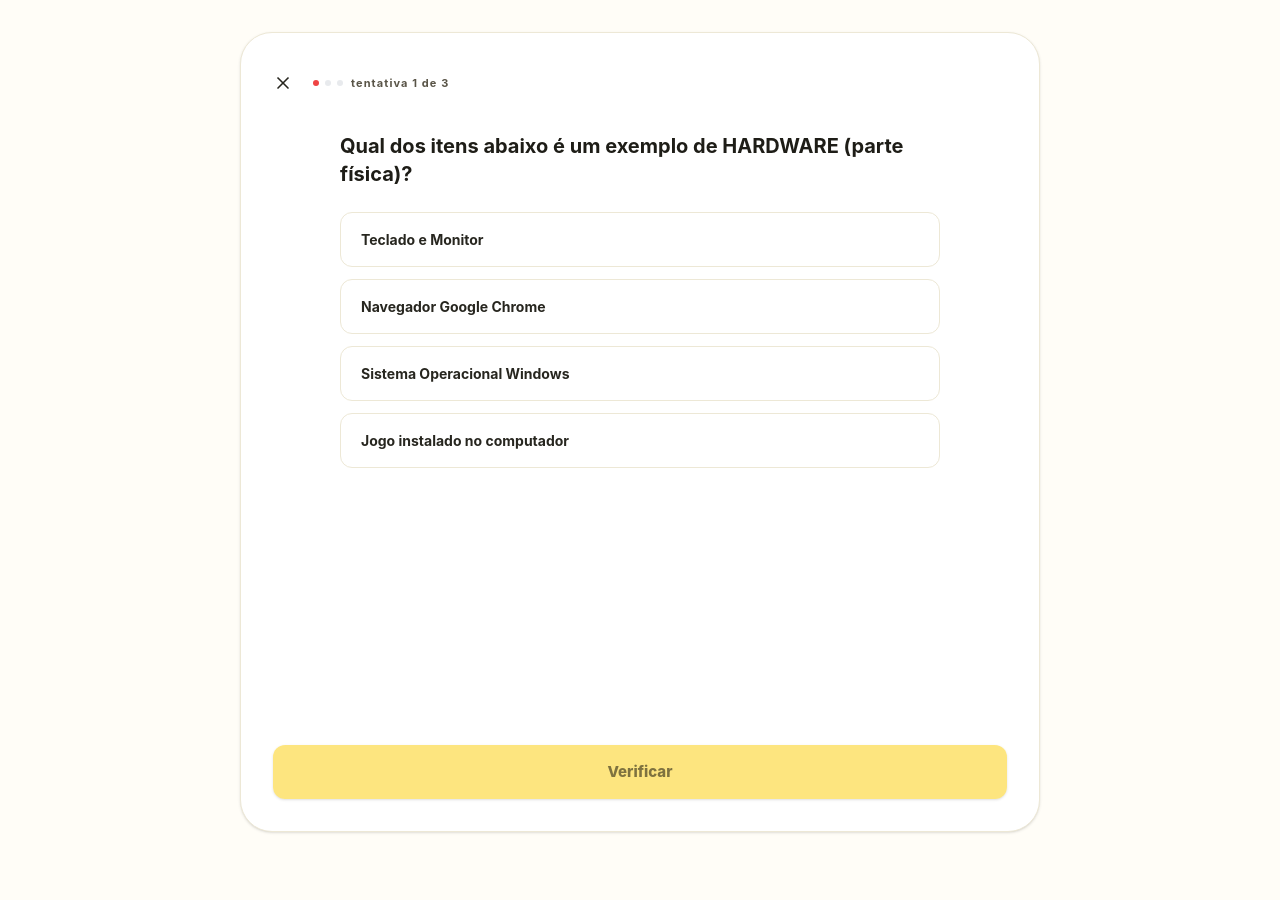
Fase 4 — Question Engine & Máquina de 3 Tentativas › 4. Asynchronous Double-Submit Protection › bloqueia cliques duplicados enquanto evaluator está executando
The image size is (1280, 900).
Click the button "Teclado e Monitor": (422, 240) x1=340 y1=212 x2=940 y2=267
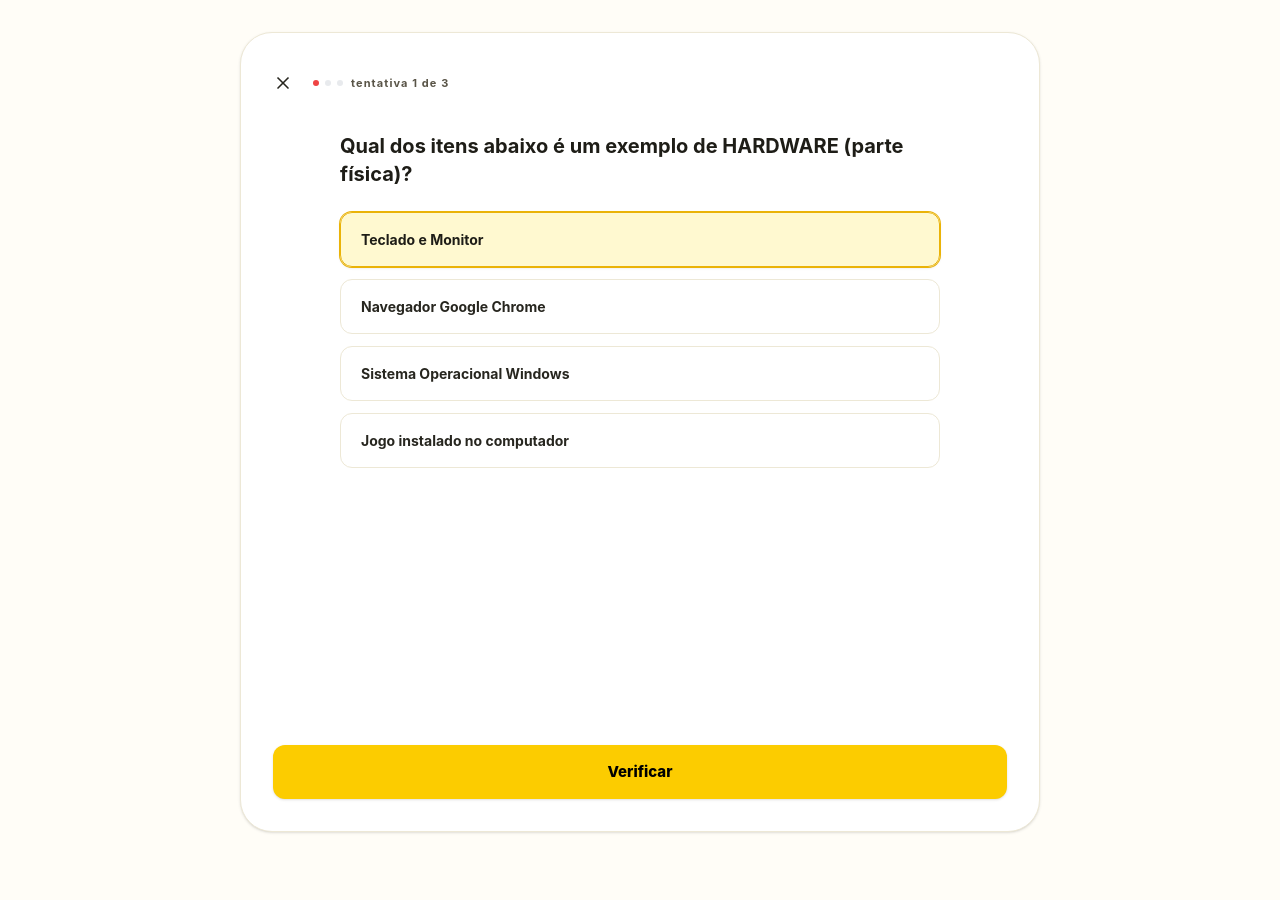
Fast double click simulation
Click the button "Verificar": (640, 772) x1=273 y1=744 x2=1007 y2=799
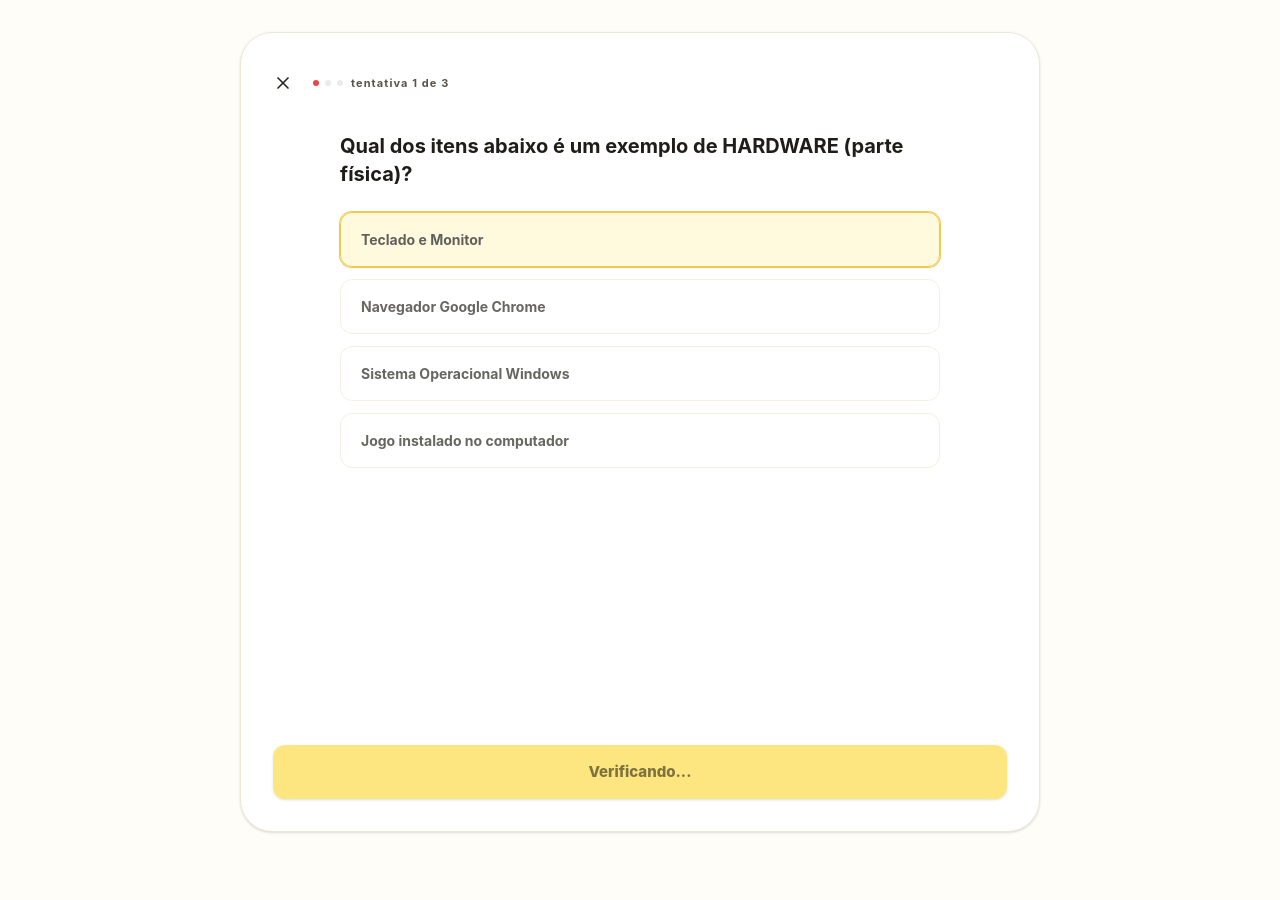
Click the button named "verificar": (640, 772) x1=273 y1=744 x2=1007 y2=799
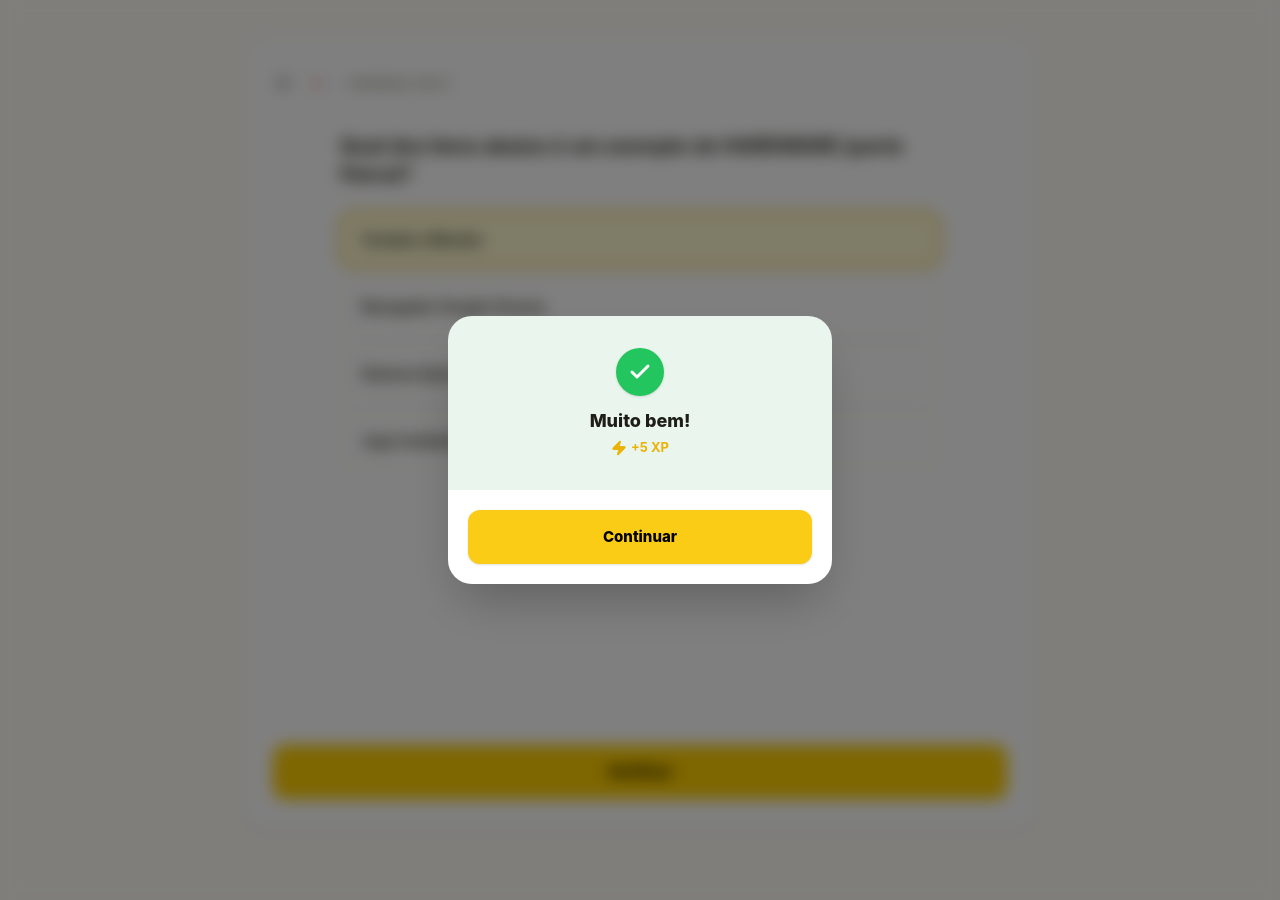
Check: the heading "Muito bem!" is shown, box x1=590 y1=412 x2=690 y2=430
